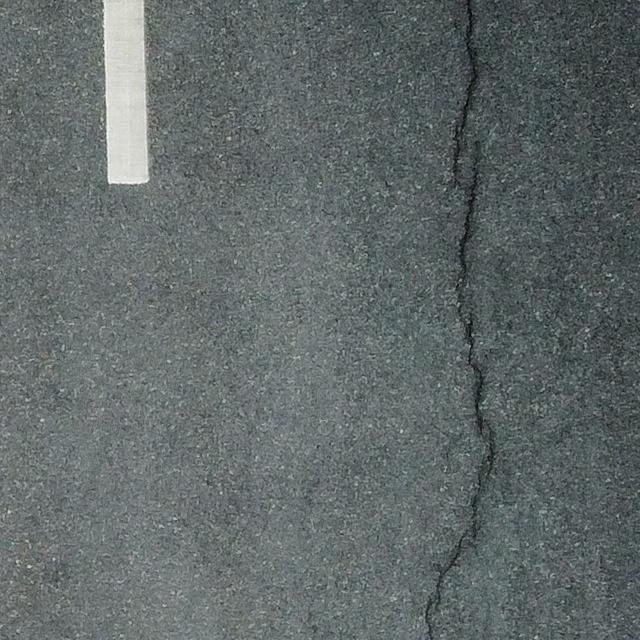LongitudinalCrack: (423, 1, 497, 640)
